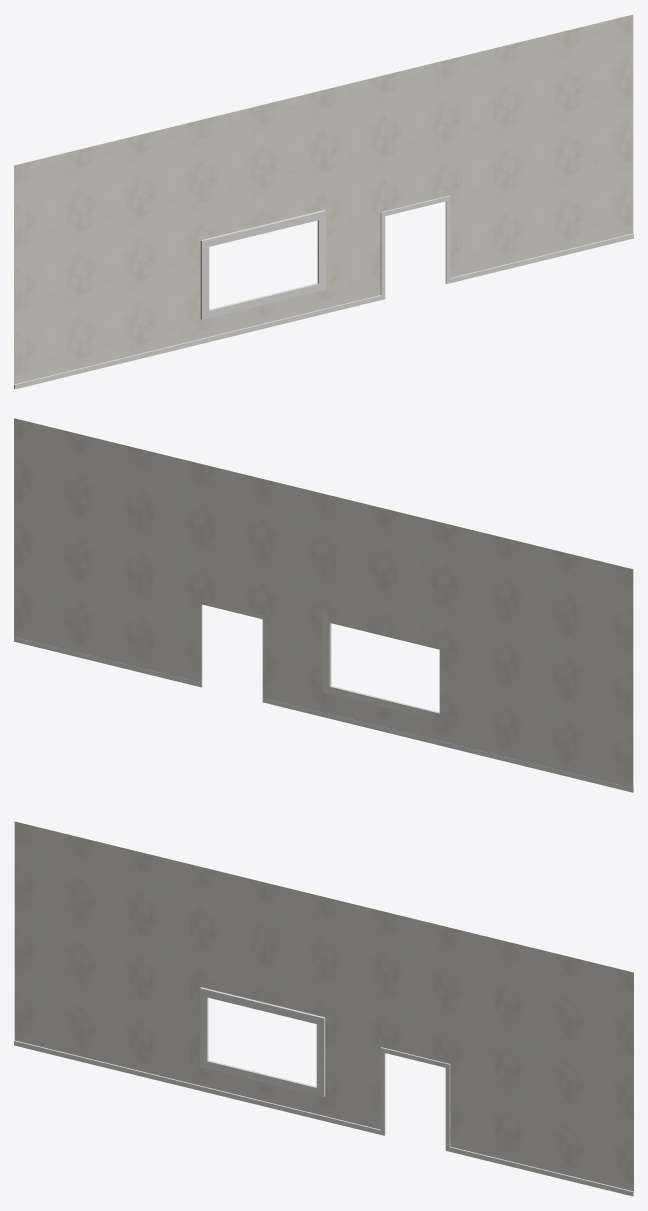
Rendered from wm_20_f0beb351.gltf.
3 views of the same model, one above another, from view 1: azimuth 30°, elevation 25°; view 2: azimuth 150°, elevation 25°; view 3: azimuth 330°, elevation 25° (orthographic).
Parts seen in each view (by area): view 1: jx_wm_20_f0beb351; view 2: jx_wm_20_f0beb351; view 3: jx_wm_20_f0beb351.
Boxes of the visible parts, x1,y1,x2,y2 form: jx_wm_20_f0beb351: (14,14,633,389); jx_wm_20_f0beb351: (14,418,633,792); jx_wm_20_f0beb351: (14,821,633,1196).
Size of the model in its own units: 20.3 by 7 by 0.086.
Materials: 2 (2 with a texture image).
